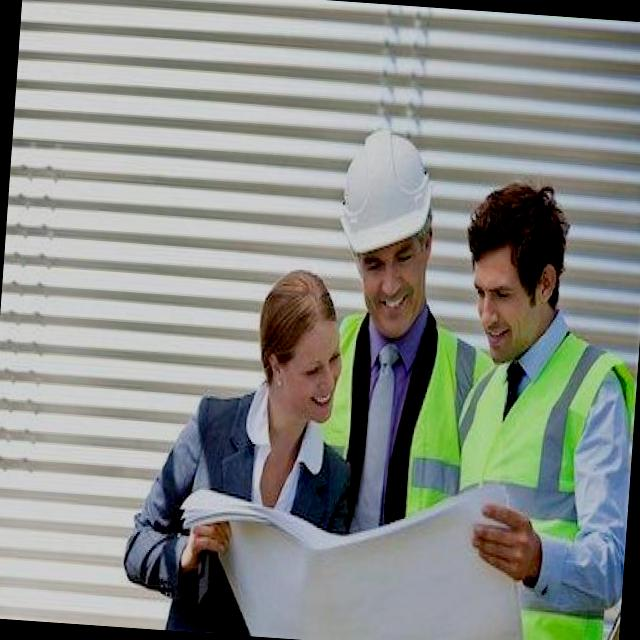vest: (473, 342, 607, 622), (331, 316, 454, 512)
